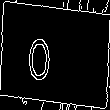O_N: (43, 27, 67, 83)
